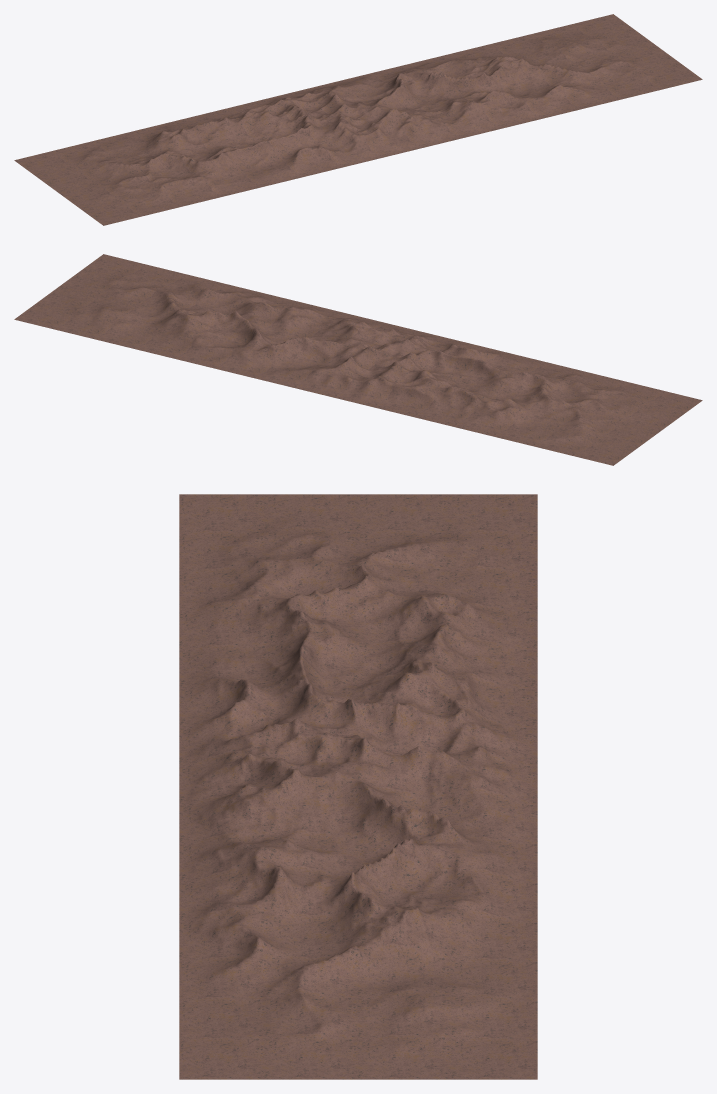
File: ver3.glb
3 views of the same model, one above another, from view 1: azimuth 30°, elevation 25°; view 2: azimuth 150°, elevation 25°; view 3: azimuth 270°, elevation 25° (orthographic). The views are drawn at different scales.
Visible parts, largest first — view 1: Landscape; view 2: Landscape; view 3: Landscape.
Boxes of the visible parts, x1,y1,x2,y2 form: Landscape: (14, 14, 702, 225); Landscape: (14, 254, 702, 465); Landscape: (179, 494, 537, 1079).
Bounding box in the file's own units: 14.57 × 0.4463 × 3.77.
1 material, 1 textured.
